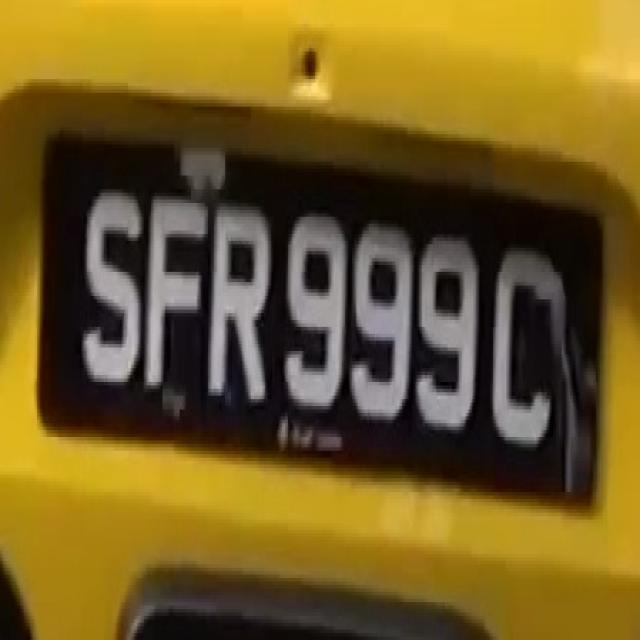9: (281, 200, 345, 430), (416, 224, 478, 447), (350, 213, 410, 430)
C: (490, 237, 553, 461)
F: (144, 186, 208, 409)
R: (211, 193, 267, 413)
S: (80, 182, 140, 389)
